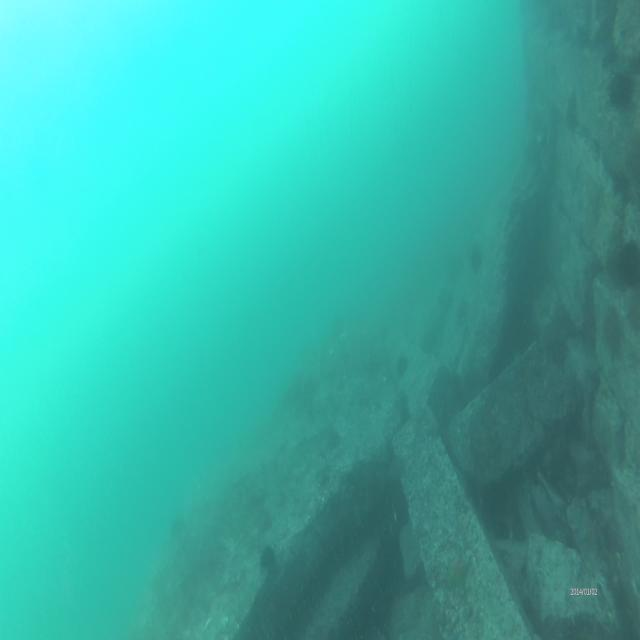echinus: (612, 242, 640, 282), (607, 72, 632, 107), (466, 243, 482, 273), (258, 543, 274, 570), (392, 354, 410, 374)
starfish: (435, 550, 473, 590)
